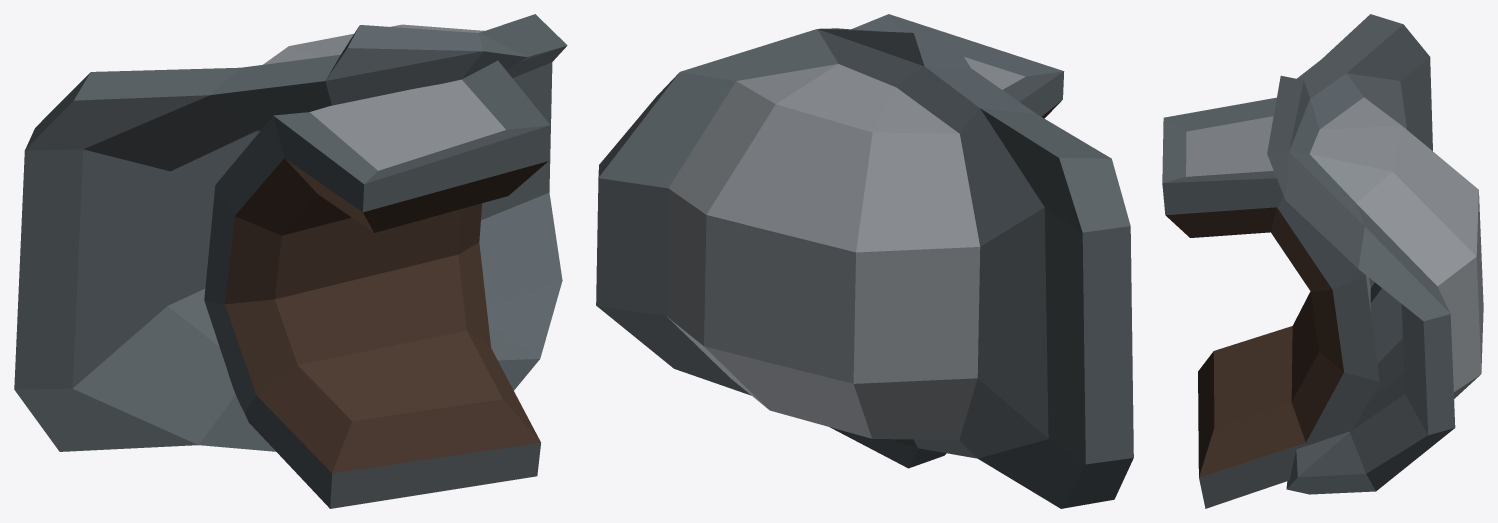
Rendered from Chr_ElbowAttachLeft_05_Static.fbx.
The picture shows the model from 3 angles, left to right: view 1: azimuth 30°, elevation 25°; view 2: azimuth 150°, elevation 25°; view 3: azimuth 270°, elevation 25°; orthographic projection. The views are drawn at different scales.
Visible parts, largest first — view 1: Chr_ElbowAttachLeft_05_Static; view 2: Chr_ElbowAttachLeft_05_Static; view 3: Chr_ElbowAttachLeft_05_Static.
Part boxes in pixels (x1=…): Chr_ElbowAttachLeft_05_Static: x1=14, y1=14, x2=567, y2=508; Chr_ElbowAttachLeft_05_Static: x1=596, y1=14, x2=1133, y2=508; Chr_ElbowAttachLeft_05_Static: x1=1162, y1=14, x2=1483, y2=508.
Size of the model in its own units: 0.2398 by 0.1892 by 0.1406.
